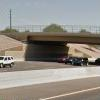Bridge: (17, 12, 99, 56)
